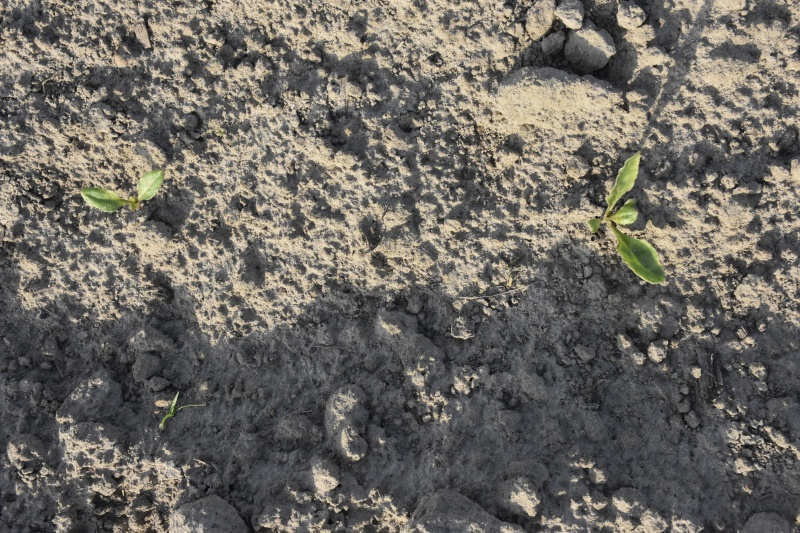sugar beet: (584, 149, 673, 293), (80, 170, 173, 221)
